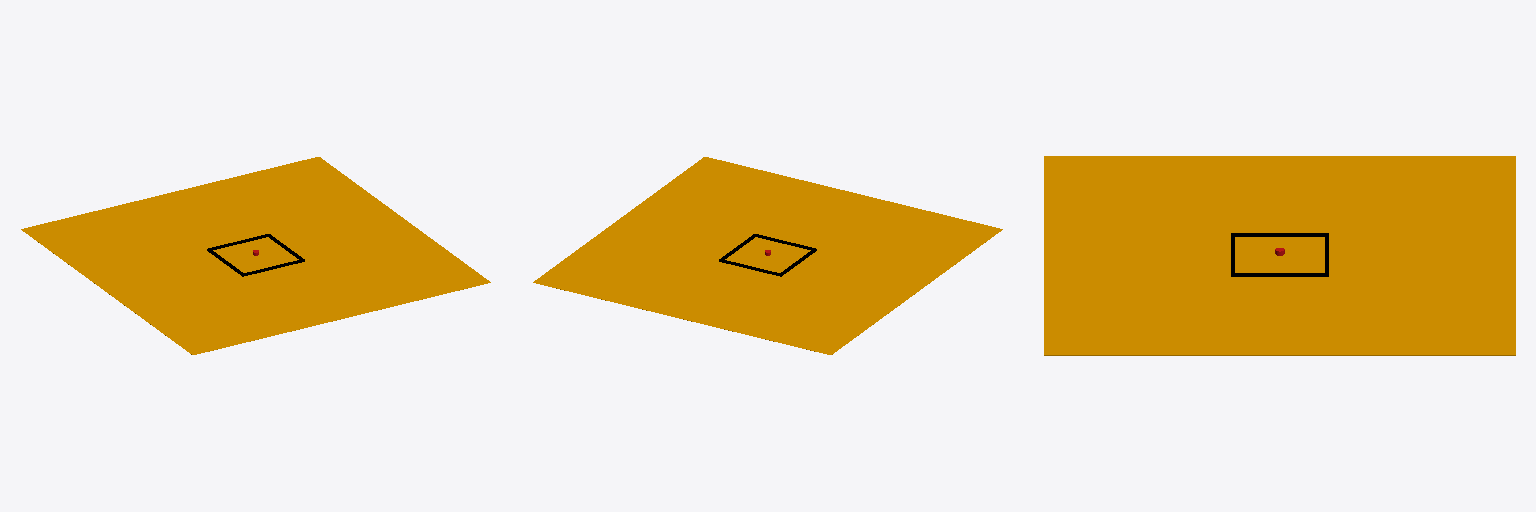
URDF robot description (robot):
<?xml version="1.0" encoding="utf-8"?>

<robot name="robot">

    <material name="black">
        <color rgba="0 0 0 1"/>
    </material>
    <material name="red">
        <color rgba="0.8 0.1 0.1 1"/>
    </material>
    <material name="blue">
        <color rgba="0.1 0.1 0.9 1"/>
    </material>
    <material name="white">
        <color rgba="1 1 1 1"/>
    </material>

    <link name="base_link">
        <origin rpy="0.0 0.0 0.0" xyz="0 0 0.00"/>
        <visual>
            <!-- <origin rpy="0.0 0.0 0.0" xyz="0.0 0.0 0.0"/> -->
            <geometry>
                <box size="5 5 0.001"/>
            </geometry>
        </visual>
    </link>

    <!-- <link name="maze">
        <visual>
            <origin rpy="0.0 0.0 0.0" xyz="0.0 0.0 0.0"/>
            <geometry>
                <mesh filename="package://maze/urdf/meshes/maze.stl"/>
            </geometry>
        </visual>
        <collision>
            <origin rpy="0.0 0.0 0.0" xyz="0.0 0.0 0.0"/>
            <geometry>
                <mesh filename="package://maze/urdf/meshes/maze.stl"/>
            </geometry>
        </collision>
        <inertial>
            <mass value="10000"/>
            <inertia ixx="100"  ixy="0"  ixz="0" iyy="100" iyz="0" izz="100" />
        </inertial>
    </link> -->

    <link name="wall_left">
        <visual>
            <origin rpy="0.0 0.0 0.0" xyz="0.0 0.0 0.0"/>
            <geometry>
                <box size="0.05 1.05 0.05"/>
            </geometry>
            <material name="black"/>
        </visual>
        <collision>
            <origin rpy="0.0 0.0 0.0" xyz="0.0 0.0 0.0"/>
            <geometry>
                <box size="0.05 1 0.15"/>
            </geometry>
        </collision>
        <inertial>
            <mass value="10000"/>
            <inertia ixx="100"  ixy="0"  ixz="0" iyy="100" iyz="0" izz="100" />
        </inertial>
    </link>

    <joint name="base_to_wall_left" type="fixed">
        <parent link="base_link"/>
        <child link="wall_left"/>
        <origin rpy="0 0 0" xyz="-0.5 0 0"/>
    </joint>


    <link name="wall_right">
        <visual>
            <origin rpy="0.0 0.0 0.0" xyz="0.0 0.0 0.0"/>
            <geometry>
                <box size="0.05 1.05 0.05"/>
            </geometry>
            <material name="black"/>
        </visual>
        <collision>
            <origin rpy="0.0 0.0 0.0" xyz="0.0 0.0 0.0"/>
            <geometry>
                <box size="0.05 1 0.15"/>
            </geometry>
        </collision>
        <inertial>
            <mass value="10000"/>
            <inertia ixx="100"  ixy="0"  ixz="0" iyy="100" iyz="0" izz="100" />
        </inertial>
    </link>

    <joint name="base_to_wall_right" type="fixed">
        <parent link="base_link"/>
        <child link="wall_right"/>
        <origin rpy="0 0 0" xyz="0.5 0 0"/>
    </joint>


     <link name="wall_top">
        <visual>
            <origin rpy="0.0 0.0 0.0" xyz="0.0 0.0 0.0"/>
            <geometry>
                <box size="1.0 0.05 0.05"/>
            </geometry>
            <material name="black"/>
        </visual>
        <collision>
            <origin rpy="0.0 0.0 0.0" xyz="0.0 0.0 0.0"/>
            <geometry>
                <box size="1.0 0.05 0.15"/>
            </geometry>
        </collision>
        <inertial>
            <mass value="10000"/>
            <inertia ixx="100"  ixy="0"  ixz="0" iyy="100" iyz="0" izz="100" />
        </inertial>
    </link>

    <joint name="base_to_wall_top" type="fixed">
        <parent link="base_link"/>
        <child link="wall_top"/>
        <origin rpy="0 0 0" xyz="0 0.5 0"/>
    </joint>

    <link name="wall_bottom">
        <visual>
            <origin rpy="0.0 0.0 0.0" xyz="0.0 0.0 0.0"/>
            <geometry>
                <box size="1.0 0.05 0.05"/>
            </geometry>
            <material name="black"/>
        </visual>
        <collision>
            <origin rpy="0.0 0.0 0.0" xyz="0.0 0.0 0.0"/>
            <geometry>
                <box size="1.0 0.05 0.15"/>
            </geometry>
        </collision>
        <inertial>
            <mass value="10000"/>
            <inertia ixx="100"  ixy="0"  ixz="0" iyy="100" iyz="0" izz="100" />
        </inertial>
    </link>

    <joint name="base_to_wall_bottom" type="fixed">
        <parent link="base_link"/>
        <child link="wall_bottom"/>
        <origin rpy="0 0 0" xyz="0 -0.5 0"/>
    </joint>

    <link name="bot_x">
        <origin rpy="0.0 0.0 0.0" xyz="0.0 0.0 0.0"/>
    </link>

    <link name="bot">
        <visual>
            <origin rpy="0.0 0.0 0.0" xyz="0 0 0.03"/>
            <geometry>
                <cylinder radius="0.05" length="0.05"/>
            </geometry>
            <material name="red"/>
        </visual>
        <collision>
            <origin rpy="0.0 0.0 0.0" xyz="0 0 0.03"/>
            <geometry>
                <cylinder radius="0.02" length="0.05"/>
            </geometry>
        </collision>
        <inertial>
            <origin xyz="0 0 0" rpy="0 0 0"/>
            <mass value="0.2"/>
        </inertial>
    </link>

    <joint name="base_to_bot_x" type="prismatic">
        <parent link="base_link"/>
        <child link="bot_x"/>
        <origin rpy="0 0 0" xyz="0 0 0.01"/>
        <axis xyz="1 0 0"/>
    </joint>

    <joint name="bot_x_to_bot" type="prismatic">
        <parent link="bot_x"/>
        <child link="bot"/>
        <origin rpy="0 0 0" xyz="0 0 0.01"/>
        <axis xyz="0 1 0"/>
    </joint>

</robot>

--- Facts derived from the render (not from the file) ---
Views: 3 orthographic renders of the robot side by side, from view 1: azimuth 30°, elevation 25°; view 2: azimuth 150°, elevation 25°; view 3: azimuth 270°, elevation 25°.
Model robot with 7 links and 6 joints (2 prismatic, 4 fixed), rooted at base_link, posed all joints at 0.
Visible links, largest first — view 1: base_link; view 2: base_link; view 3: base_link.
Link boxes in pixels (x1,y1,x2,y2): base_link: [21, 157, 490, 354]; base_link: [533, 157, 1002, 354]; base_link: [1044, 156, 1515, 355].
Size in the robot's own frame: 5 by 5 by 0.1 metres.
Geometry: primitives only (box / cylinder / sphere), no mesh files.